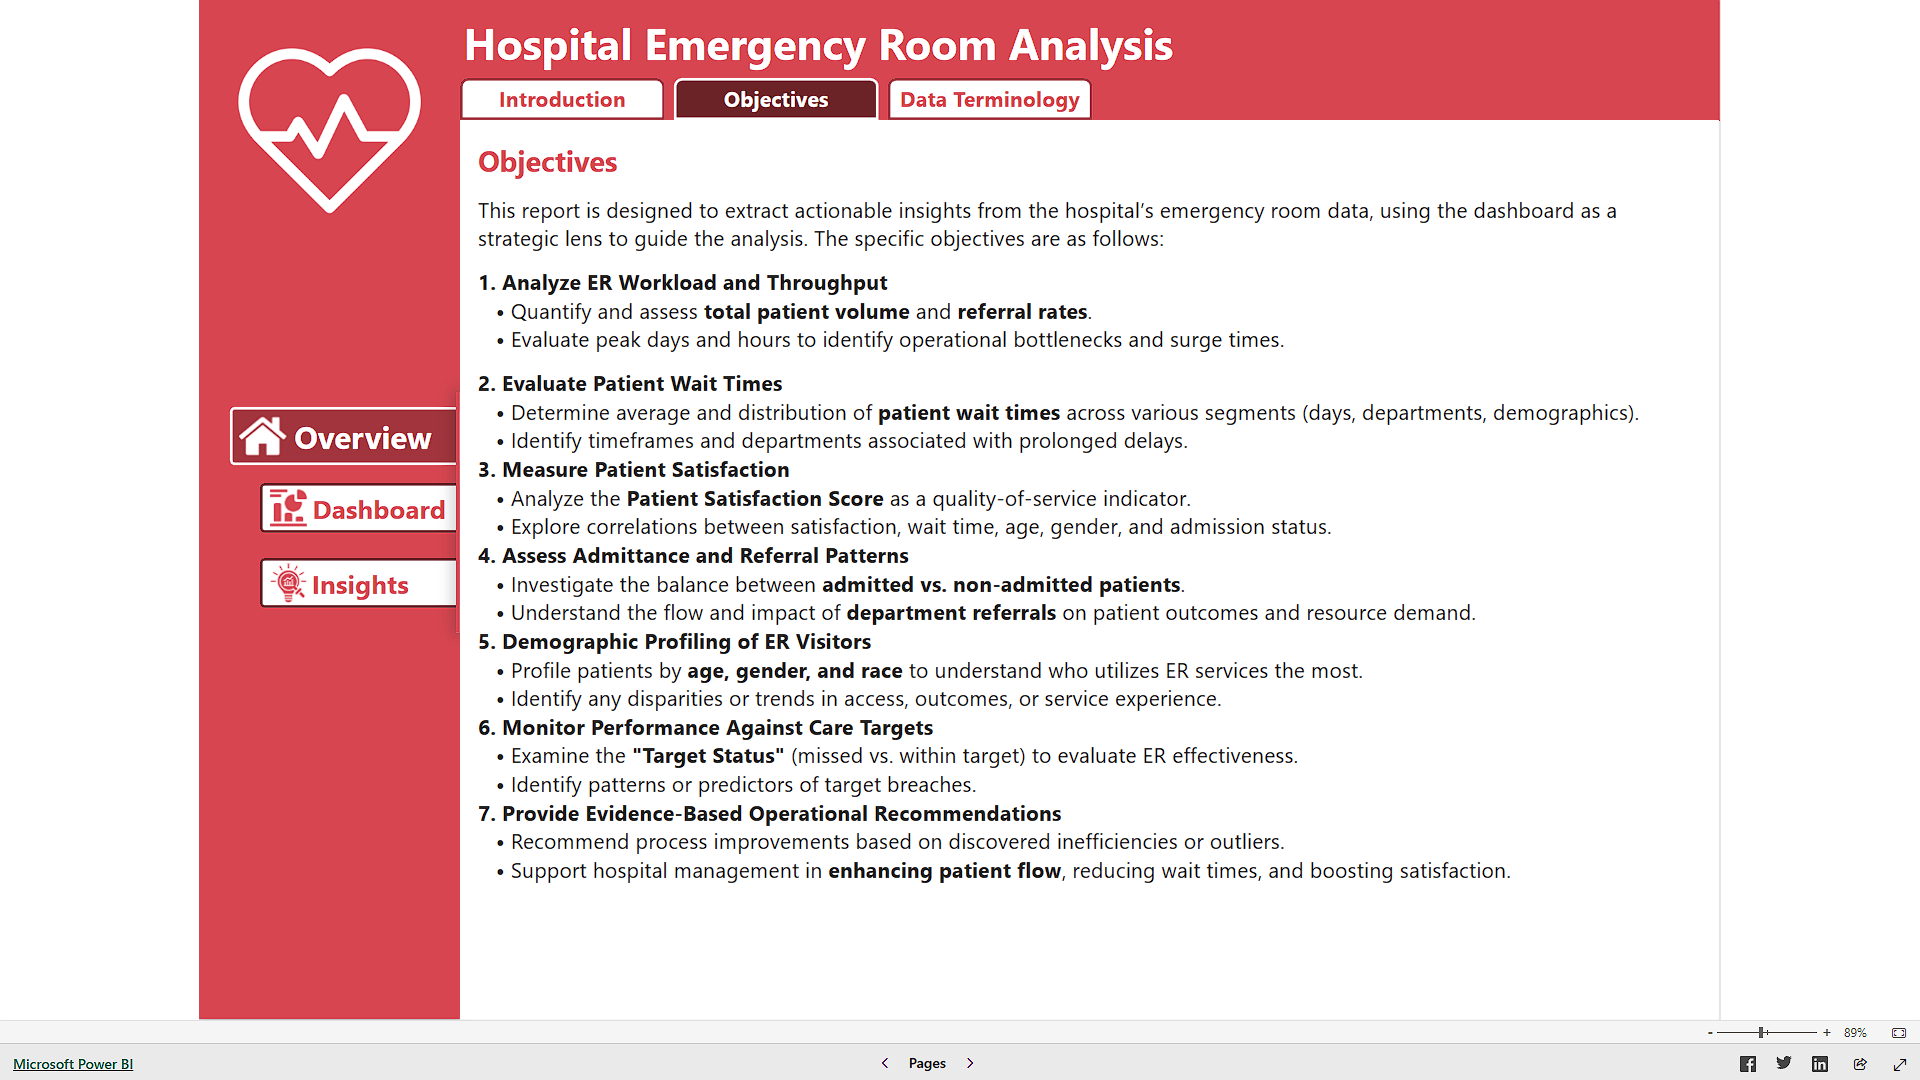

The dashboard page shown, as its layout file describes it:
{"tool":"powerbi","page":{"name":"Objectives","canvas":[1700,1140],"ordinal":2},"visuals":[{"type":"shape","box":[0,0,292.2,1139.5],"z":0},{"type":"textbox","title":"Hospital Emergency Room Analysis","box":[290.8,14.7,938.4,91],"z":0,"group":"g1"},{"type":"actionButton","box":[34.3,316.7,257.4,65.4],"z":0,"group":"g2"},{"type":"shape","box":[292,0,1408,135],"z":1000},{"type":"actionButton","box":[67.7,401.6,224,55.7],"z":1000,"group":"g2"},{"type":"image","box":[0,38.6,291.4,214.3],"z":2000},{"type":"actionButton","box":[67.7,485.2,224,55.7],"z":2000,"group":"g2"},{"type":"shape","box":[291.4,134.3,1407.1,1005.7],"z":3000},{"type":"shape","box":[287.5,300,4.2,268.5],"z":3000,"group":"g2"},{"type":"pageNavigator","box":[292.2,87.7,709.6,47.3],"z":4000},{"type":"textbox","box":[292.2,135,1405.2,1004.5],"z":5000},{"type":"group","id":"g1","title":"Group 1","box":[290.8,14.7,938.4,91],"z":6000},{"type":"group","id":"g2","title":"Group 2","box":[34.3,300,257.4,268.5],"z":7000}]}

Visuals, with their boxes on the page's 1700x1140 design canvas (x1, y1, x2, y2). These are canvas units, not pixel positions in the 1920x1080 screenshot, which may show the page scaled, cropped or inside an application window:
shape: bbox=(0, 0, 292, 1140)
"Hospital Emergency Room Analysis" textbox: bbox=(291, 15, 1229, 106)
actionButton: bbox=(34, 317, 292, 382)
shape: bbox=(292, 0, 1700, 135)
actionButton: bbox=(68, 402, 292, 457)
image: bbox=(0, 39, 291, 253)
actionButton: bbox=(68, 485, 292, 541)
shape: bbox=(291, 134, 1698, 1140)
shape: bbox=(288, 300, 292, 568)
pageNavigator: bbox=(292, 88, 1002, 135)
textbox: bbox=(292, 135, 1697, 1140)
"Group 1" group: bbox=(291, 15, 1229, 106)
"Group 2" group: bbox=(34, 300, 292, 568)
